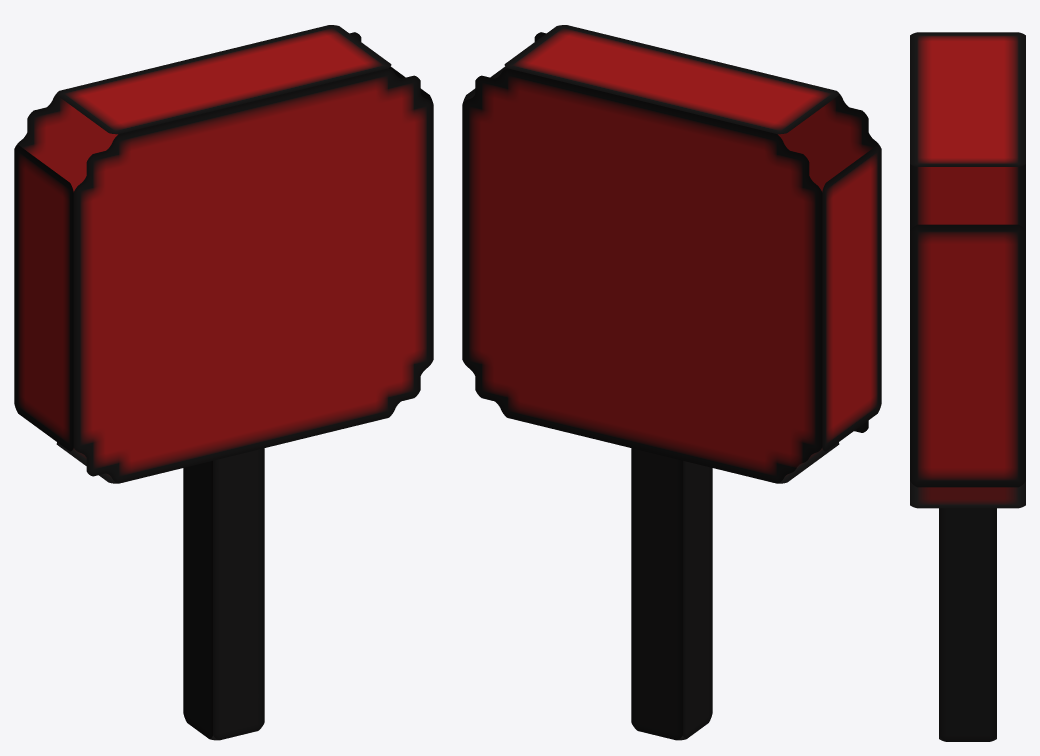
File: gun.fbx
3 views of the same model, side by side, from view 1: azimuth 30°, elevation 25°; view 2: azimuth 150°, elevation 25°; view 3: azimuth 270°, elevation 25° (orthographic). The views are drawn at different scales.
Visible parts, largest first — view 1: cuboid, cuboid_1; view 2: cuboid, cuboid_1; view 3: cuboid, cuboid_1.
Part boxes in pixels (x1,y1,x2,y2): cuboid: (14, 25, 433, 483); cuboid_1: (183, 448, 264, 740); cuboid: (462, 25, 881, 483); cuboid_1: (631, 448, 712, 740); cuboid: (910, 32, 1025, 508); cuboid_1: (939, 508, 996, 741).
Size of the model in its own units: 87.5 by 150 by 25.
1 material, 1 textured.
